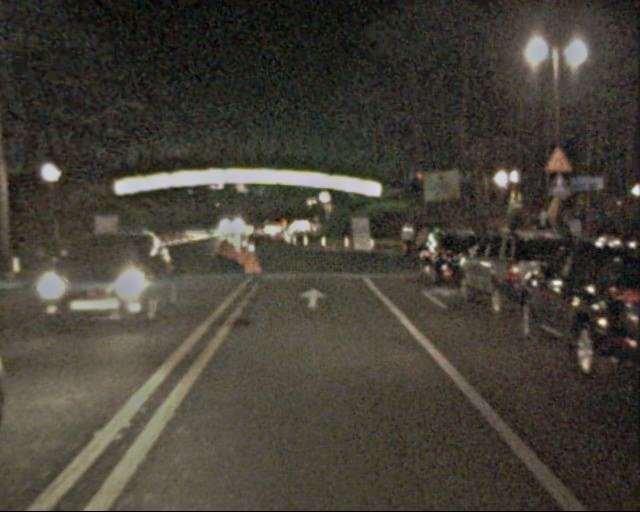person: (415, 228, 435, 277), (399, 221, 418, 268)
